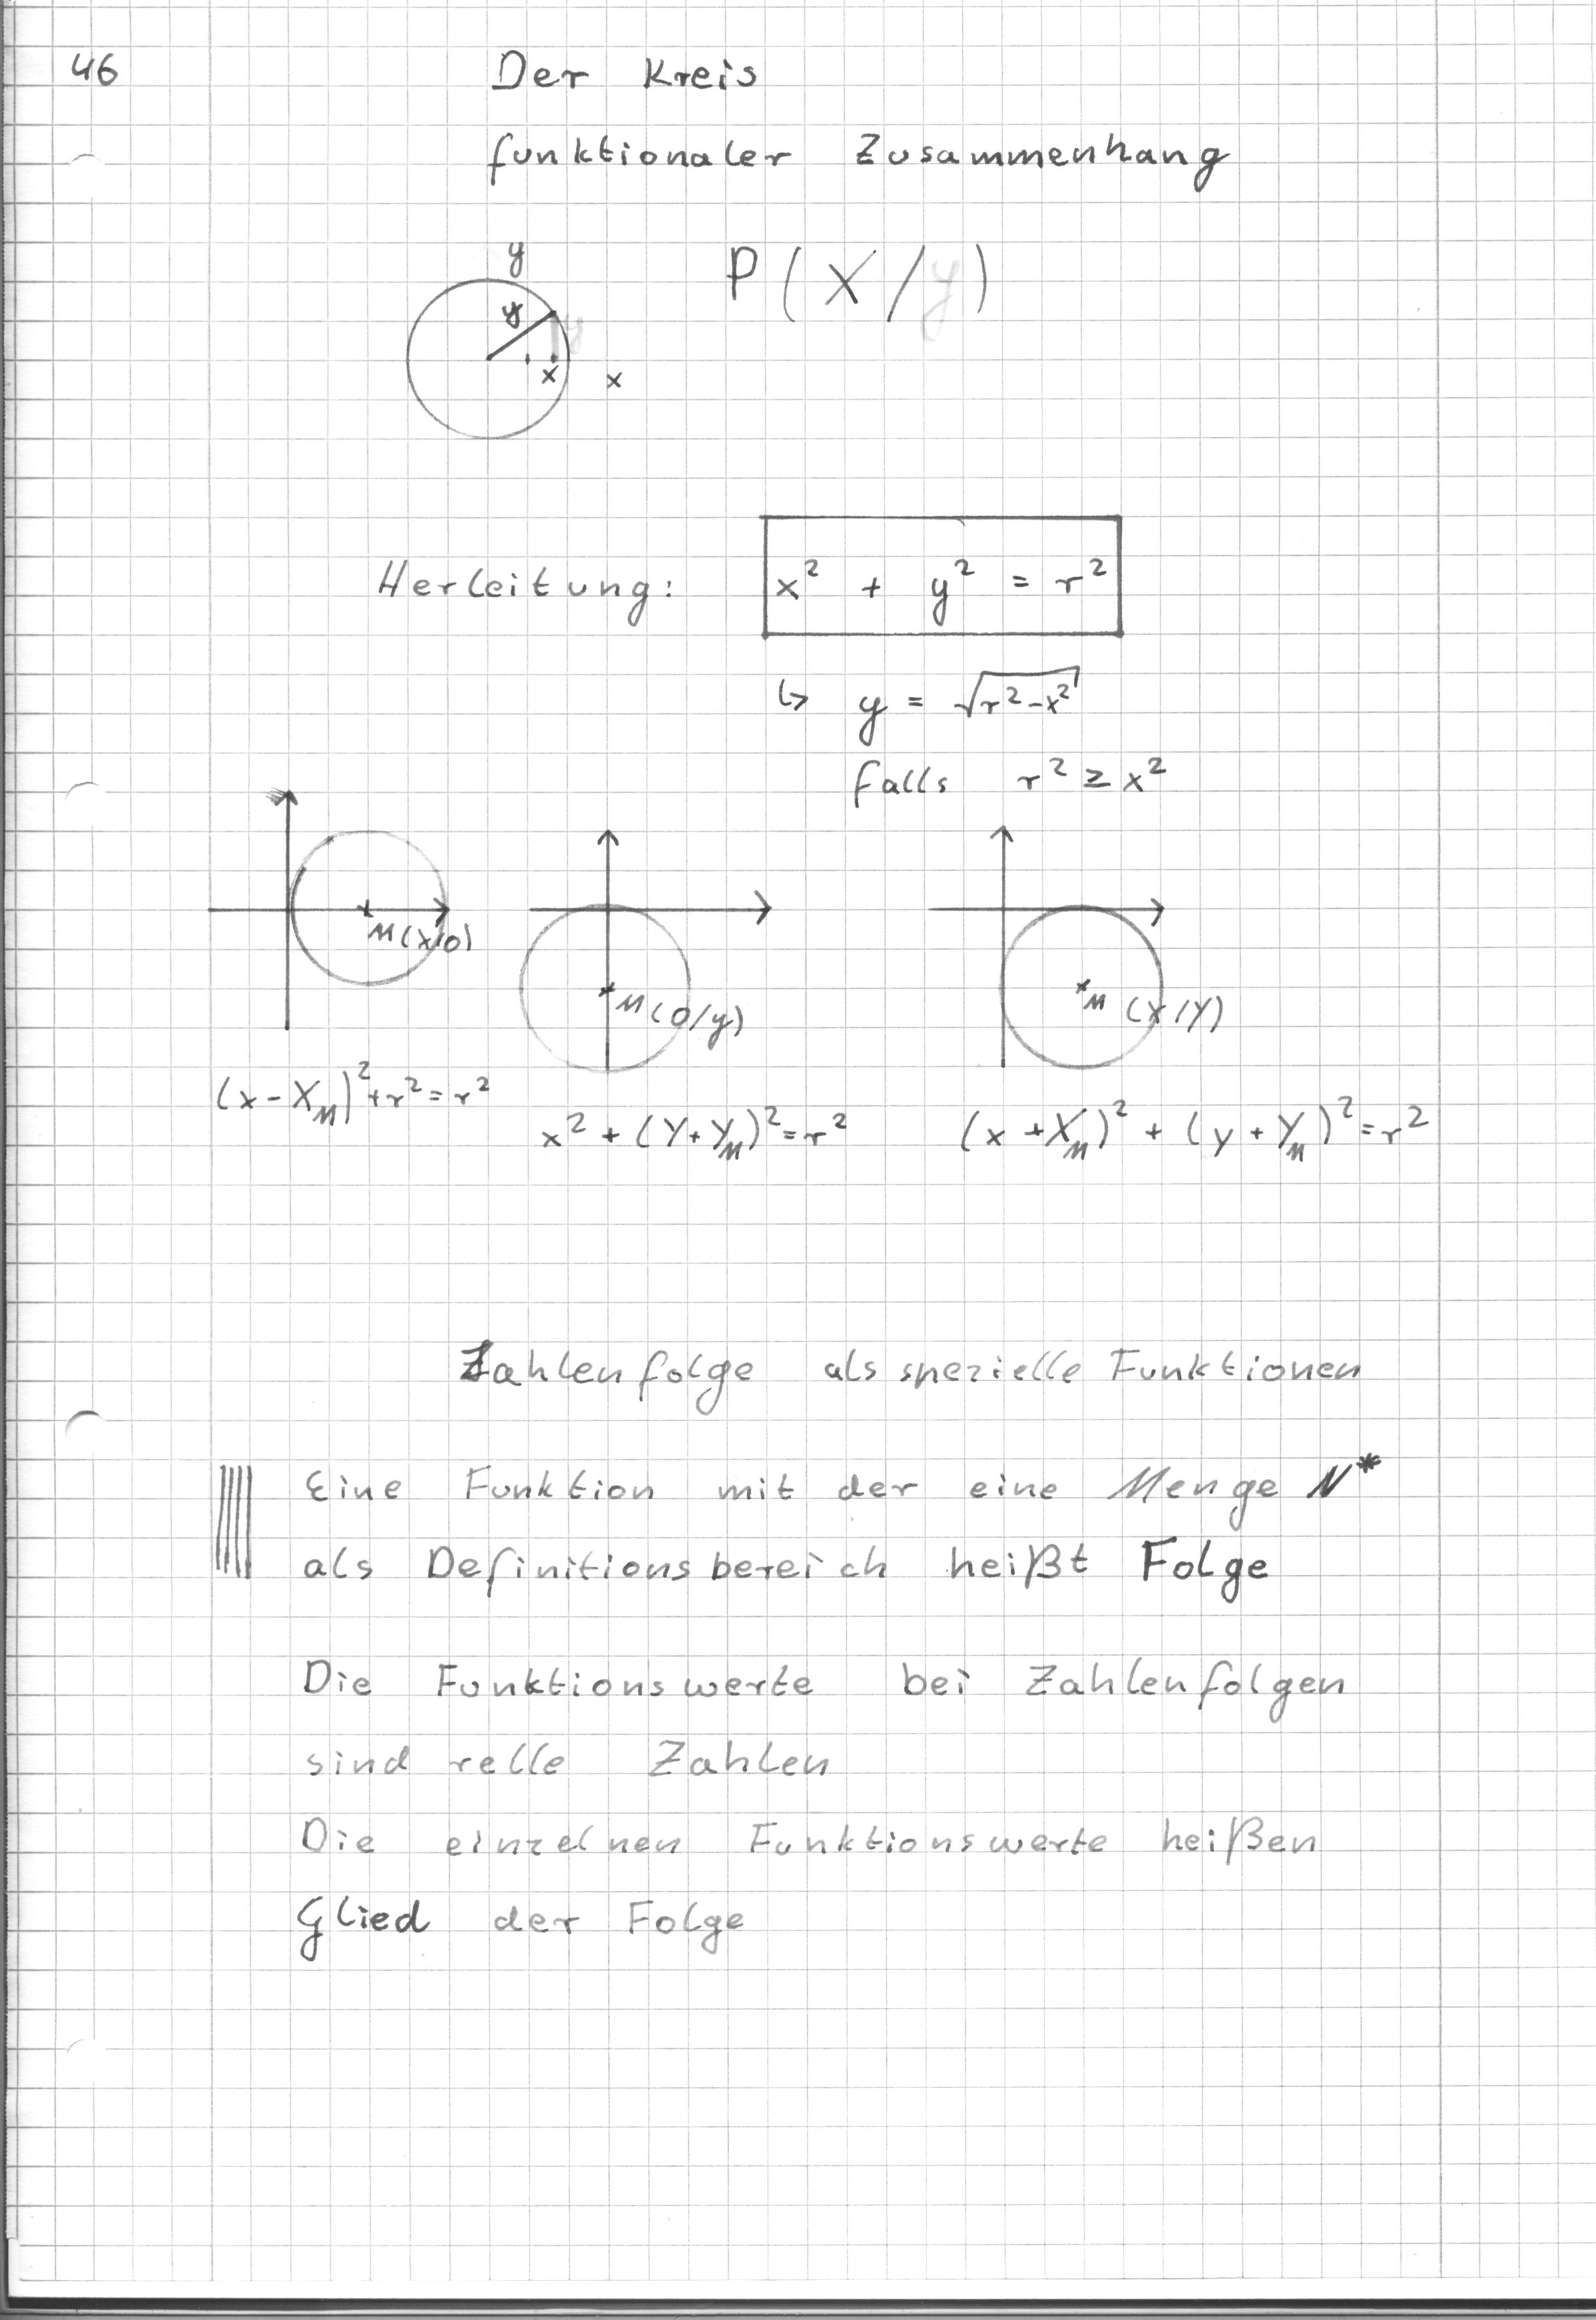word: (294, 1810, 1324, 1976), (294, 1457, 1288, 1604), (292, 1649, 1349, 1784), (447, 1328, 1372, 1421), (766, 661, 1176, 817), (957, 1090, 1435, 1175), (373, 549, 685, 645), (768, 547, 1111, 633), (533, 1094, 855, 1177), (212, 1055, 501, 1133)
